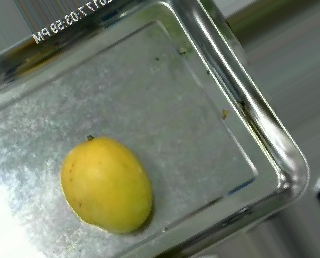Mango: (58, 134, 154, 233)
